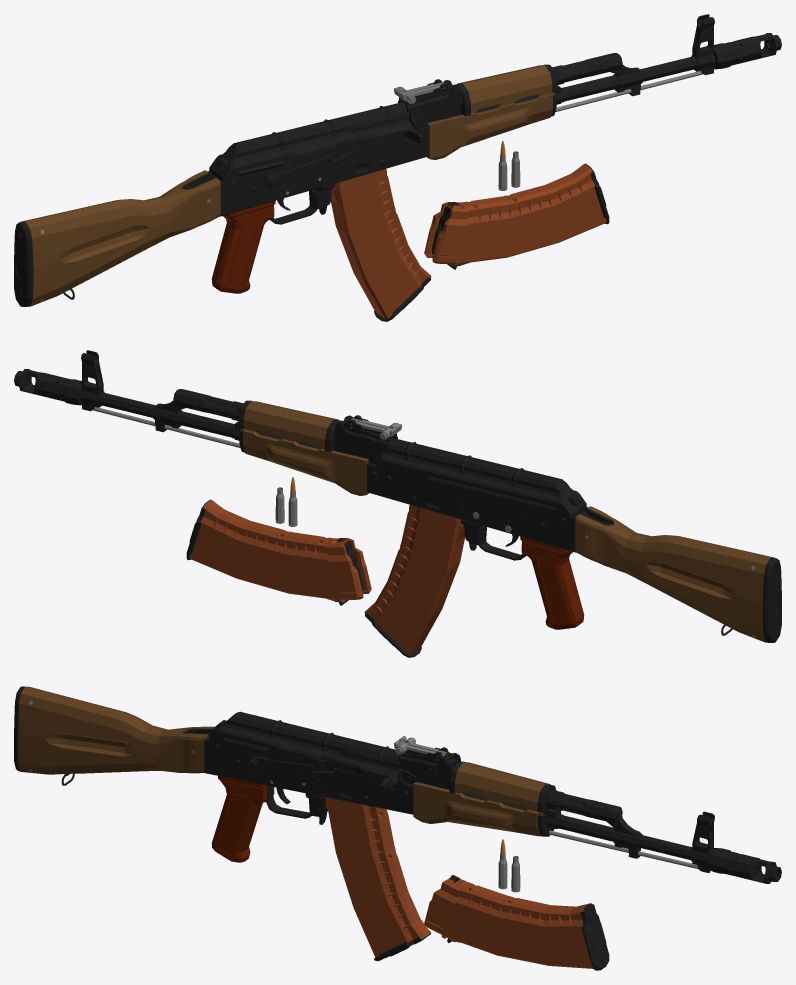
3 views of the same model, one above another, from view 1: azimuth 30°, elevation 25°; view 2: azimuth 150°, elevation 25°; view 3: azimuth 330°, elevation 25° (orthographic).
Visible parts, largest first — view 1: ak74 stock_1, ak74 30rnd empty bakelite mag_13, ak74 receiver_15, ak74 30rnd bakelite mag_12, ak74 handguard_5, ak74 dust cover_6, ak74 barrel_8, ak74 grip_3, ak74 compensator_14, ak74 bolt_7, ak74 selector_2; view 2: ak74 stock_1, ak74 receiver_15, ak74 30rnd empty bakelite mag_13, ak74 30rnd bakelite mag_12, ak74 dust cover_6, ak74 handguard_5, ak74 barrel_8, ak74 grip_3, ak74 compensator_14; view 3: ak74 stock_1, ak74 30rnd empty bakelite mag_13, ak74 receiver_15, ak74 30rnd bakelite mag_12, ak74 handguard_5, ak74 barrel_8, ak74 dust cover_6, ak74 grip_3, ak74 compensator_14, ak74 bolt_7, ak74 selector_2.
Boxes of the visible parts, <box> form: ak74 stock_1: <box>14,170,220,306</box>; ak74 30rnd empty bakelite mag_13: <box>424,163,609,269</box>; ak74 receiver_15: <box>182,58,599,224</box>; ak74 30rnd bakelite mag_12: <box>331,169,431,321</box>; ak74 handguard_5: <box>427,65,555,159</box>; ak74 dust cover_6: <box>209,102,407,182</box>; ak74 barrel_8: <box>427,14,715,122</box>; ak74 grip_3: <box>211,200,275,293</box>; ak74 compensator_14: <box>714,33,781,69</box>; ak74 bolt_7: <box>337,65,600,147</box>; ak74 selector_2: <box>262,142,354,189</box>; ak74 stock_1: <box>575,506,781,642</box>; ak74 receiver_15: <box>196,394,613,560</box>; ak74 30rnd empty bakelite mag_13: <box>186,499,371,605</box>; ak74 30rnd bakelite mag_12: <box>364,505,464,657</box>; ak74 dust cover_6: <box>382,438,586,518</box>; ak74 handguard_5: <box>240,401,368,495</box>; ak74 barrel_8: <box>80,350,368,458</box>; ak74 grip_3: <box>520,536,584,629</box>; ak74 compensator_14: <box>14,369,81,405</box>; ak74 stock_1: <box>14,686,216,785</box>; ak74 30rnd empty bakelite mag_13: <box>424,875,609,970</box>; ak74 receiver_15: <box>183,720,598,818</box>; ak74 30rnd bakelite mag_12: <box>324,797,431,961</box>; ak74 handguard_5: <box>413,762,550,836</box>; ak74 barrel_8: <box>418,782,714,872</box>; ak74 dust cover_6: <box>209,711,408,761</box>; ak74 grip_3: <box>211,776,274,862</box>; ak74 compensator_14: <box>706,848,781,883</box>; ak74 bolt_7: <box>323,749,593,810</box>; ak74 selector_2: <box>246,750,334,774</box>.
Bounding box in the file's own units: 9.42 × 2.65 × 0.6313.
